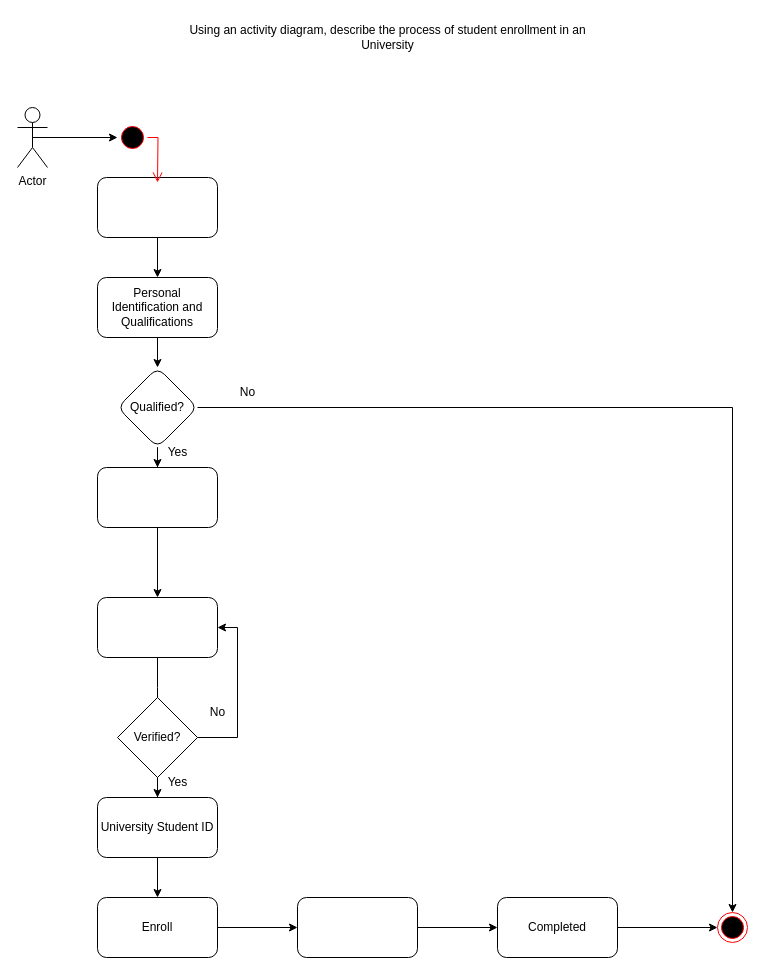
This 765x975 diagram has some shape labels left out. The shapes that lost their labels are listed below. From the top down, each one's centre as x and y in pixels, then its label:
[157,207]: Apply Form
[157,497]: Admission
[157,627]: University Registration Form
[357,927]: Choose Course
